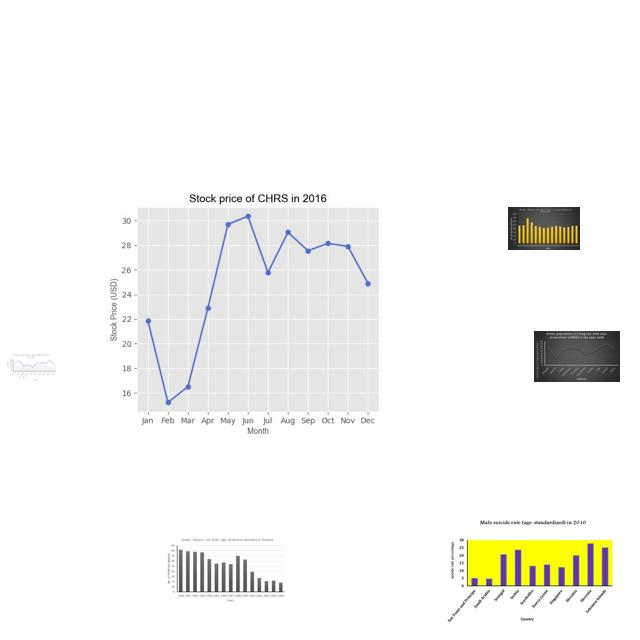Graph: (76, 175, 431, 441), (445, 518, 618, 624), (164, 536, 287, 604), (534, 331, 620, 382), (508, 207, 580, 250), (7, 353, 57, 382)
